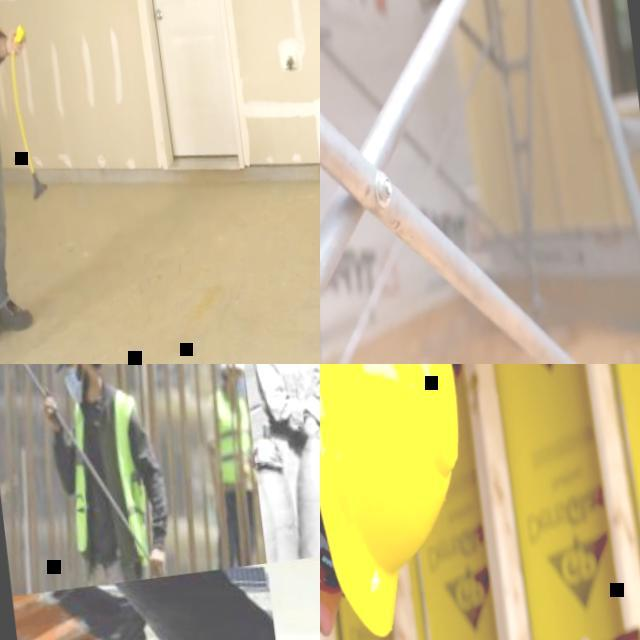helmet: (320, 364, 486, 640), (213, 364, 242, 375)
vest: (57, 386, 154, 559), (205, 392, 255, 484)
